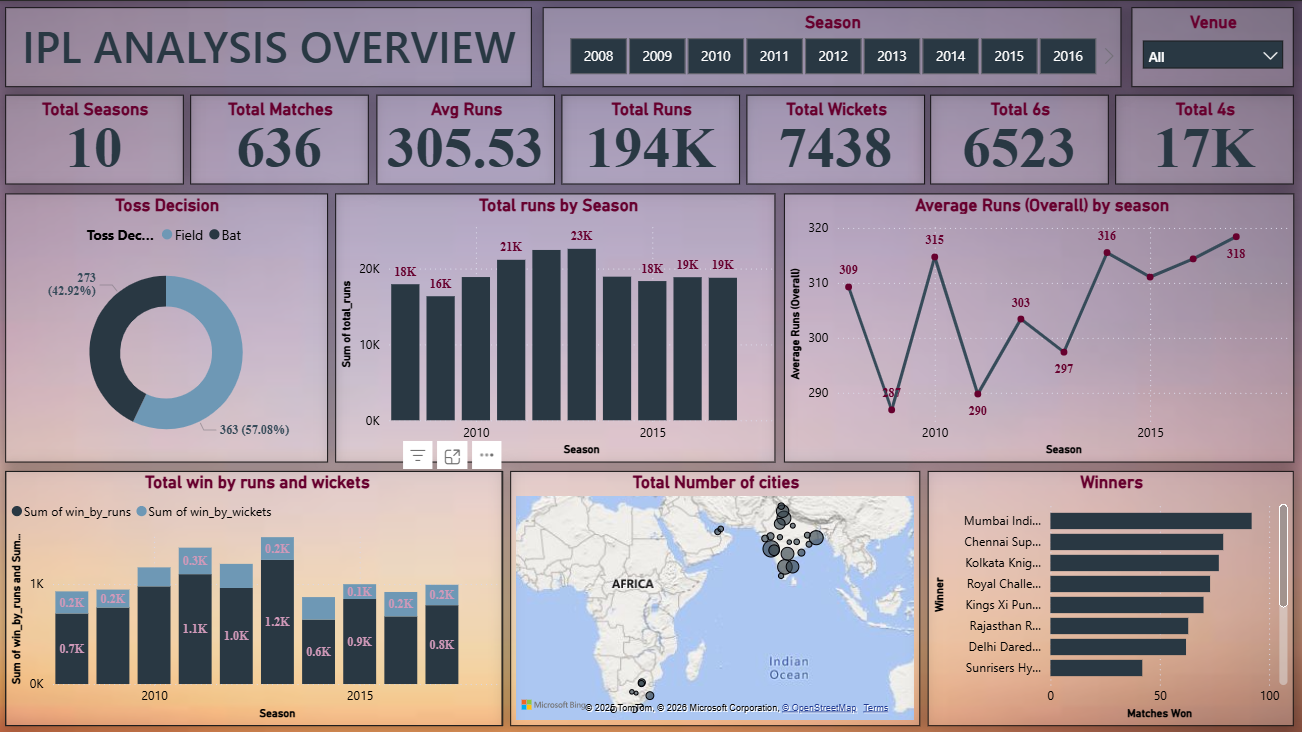

Layout of this report page (visuals, bound fields, positions):
{"tool":"powerbi","page":{"name":"Page 1","canvas":[1280,720],"ordinal":0},"visuals":[{"type":"columnChart","title":"Total runs by Season","fields":{"Category":["matches (1) csv.season"],"Y":["Sum(deliveries csv.total_runs)"]},"box":[330.1,189,431.9,263.8],"z":0},{"type":"card","title":"Total Matches","fields":{"Values":["CountNonNull(matches (1) csv.id)"]},"box":[187.7,92,175.5,88.3],"z":1000},{"type":"card","title":"Total Runs","fields":{"Values":["Sum(deliveries csv.total_runs)"]},"box":[552.2,92,175.5,88.3],"z":2000},{"type":"card","title":"Total Seasons","fields":{"Values":["Count(matches (1) csv.season)"]},"box":[6.1,92,175,88.3],"z":3000},{"type":"card","title":"Total Wickets","fields":{"Values":["CountNonNull(deliveries csv.player_dismissed)"]},"box":[733.7,92,175.5,88.3],"z":4000},{"type":"card","title":"Total 4s","fields":{"Values":["deliveries csv.Total 4s"]},"box":[1095.7,92,175.5,88.3],"z":5000},{"type":"card","title":"Total 6s","fields":{"Values":["deliveries csv.Total 6s"]},"box":[914.1,92,175.5,88.3],"z":6000},{"type":"shape","title":"IPL ANALYSIS OVERVIEW","box":[6.1,6.1,516.6,78.5],"z":7000},{"type":"lineChart","fields":{"Category":["matches (1) csv.season"],"Y":["deliveries csv.Average Runs (Overall)"]},"box":[770.6,189,500.6,263.8],"z":8000},{"type":"donutChart","title":"Toss Decision","fields":{"Category":["matches (1) csv.toss_decision"],"Y":["CountNonNull(matches (1) csv.toss_decision)"]},"box":[6.1,189,316.6,263.8],"z":9000},{"type":"map","title":"Total Number of cities","fields":{"Category":["matches (1) csv.city"],"Size":["CountNonNull(matches (1) csv.city)"]},"box":[501.8,461.4,402.5,250.3],"z":10000},{"type":"clusteredBarChart","title":"Winners","fields":{"Y":["CountNonNull(matches (1) csv.winner)"],"Category":["matches (1) csv.winner"]},"box":[911.7,461.4,359.5,250.3],"z":11000},{"type":"columnChart","title":"Total win by runs and wickets","fields":{"Category":["matches (1) csv.season"],"Y":["Sum(matches (1) csv.win_by_runs)","Sum(matches (1) csv.win_by_wickets)"]},"box":[6.1,461.4,488.3,250.3],"z":12000},{"type":"slicer","title":"Season","fields":{"Values":["matches (1) csv.season"]},"box":[533.7,6.1,568.1,78.5],"z":13000},{"type":"slicer","title":"Venue","fields":{"Values":["matches (1) csv.venue"]},"box":[1111.7,6.1,159.5,78.5],"z":14000},{"type":"card","title":"Avg Runs","fields":{"Values":["deliveries csv.Average Runs (Overall)"]},"box":[370.6,92,175.5,88.3],"z":15000}]}

Visuals, with their boxes in screenshot pixels (x1, y1, x2, y2), scaled from the page's 1280x720 canvas onto the 1302x732 screenshot:
"Total runs by Season" columnChart: [336,192,775,460]
"Total Matches" card: [191,94,369,183]
"Total Runs" card: [562,94,740,183]
"Total Seasons" card: [6,94,184,183]
"Total Wickets" card: [746,94,925,183]
"Total 4s" card: [1115,94,1293,183]
"Total 6s" card: [930,94,1108,183]
"IPL ANALYSIS OVERVIEW" shape: [6,6,532,86]
lineChart - matches (1) csv.season x deliveries csv.Average Runs (Overall): [784,192,1293,460]
"Toss Decision" donutChart: [6,192,328,460]
"Total Number of cities" map: [510,469,920,724]
"Winners" clusteredBarChart: [927,469,1293,724]
"Total win by runs and wickets" columnChart: [6,469,503,724]
"Season" slicer: [543,6,1121,86]
"Venue" slicer: [1131,6,1293,86]
"Avg Runs" card: [377,94,555,183]
